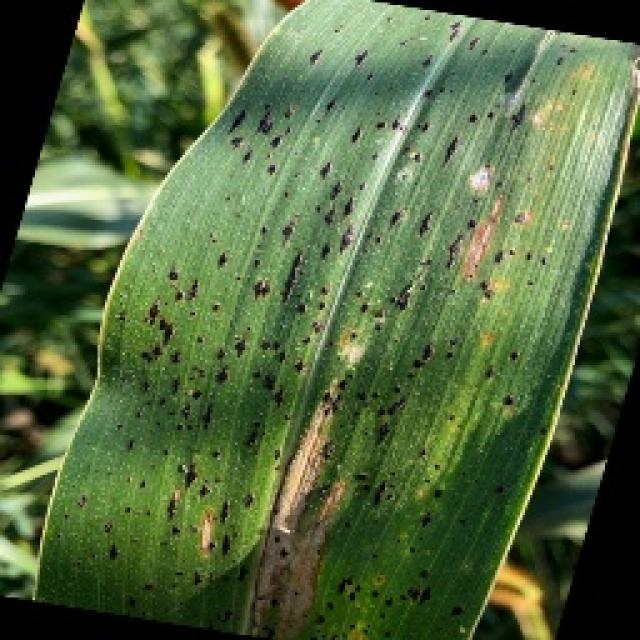Tar_Spot: (134, 285, 272, 543), (293, 318, 428, 556), (235, 90, 367, 318)
